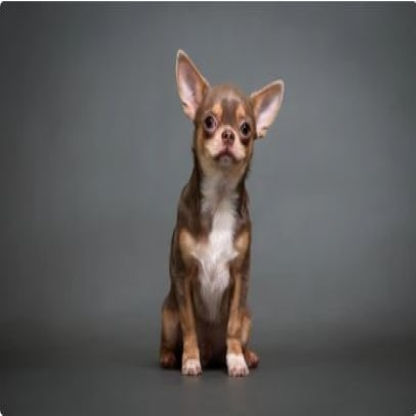chihuahua: (157, 45, 286, 378)
